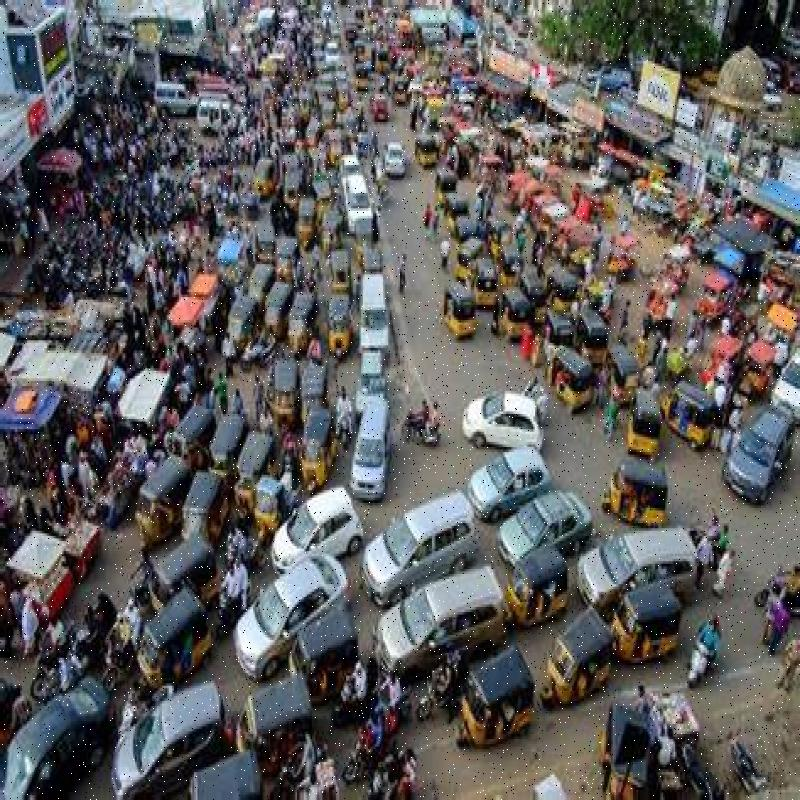car: (360, 556, 497, 686), (220, 546, 341, 680), (356, 485, 474, 618), (2, 654, 104, 800), (115, 670, 226, 800), (582, 513, 716, 605), (270, 468, 351, 566), (504, 471, 594, 556), (726, 393, 792, 505), (345, 265, 398, 385), (454, 379, 555, 440), (348, 378, 392, 503), (467, 452, 549, 506), (338, 173, 381, 247), (378, 124, 414, 181)
